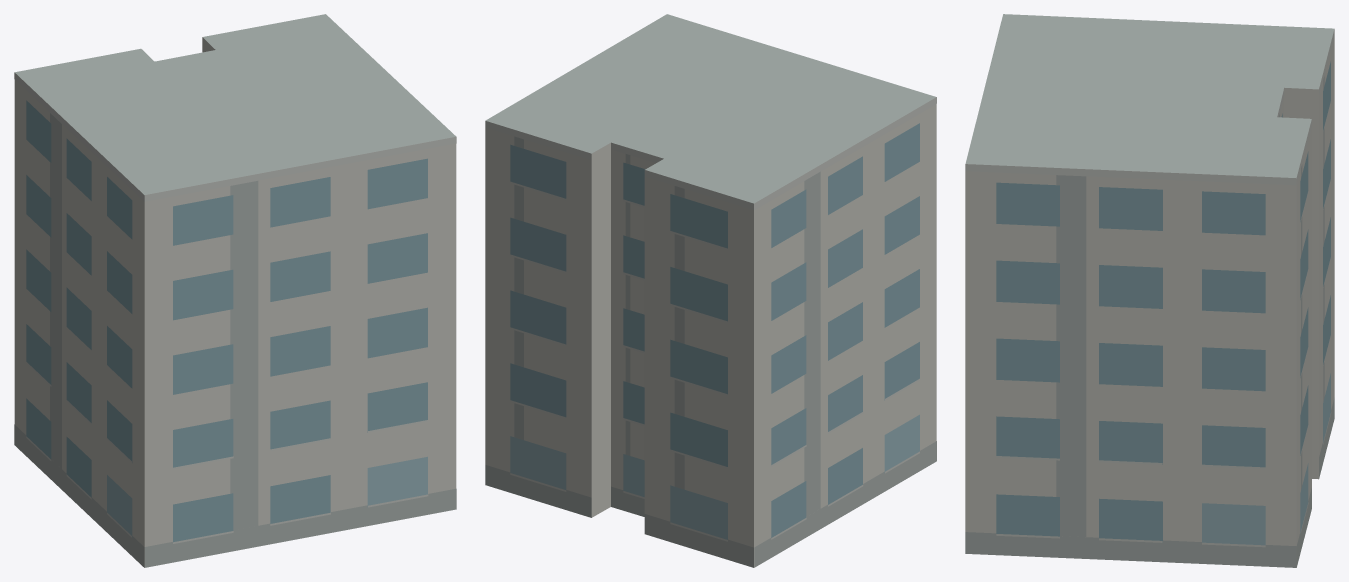
The model's file is survey-upis-32806416.glb.
3 renders of one model, left to right at view 1: azimuth 30°, elevation 25°; view 2: azimuth 150°, elevation 25°; view 3: azimuth 270°, elevation 25°, orthographic. The views are drawn at different scales.
Parts seen in each view (by area): view 1: survey-upis-32806416.tmp; view 2: survey-upis-32806416.tmp; view 3: survey-upis-32806416.tmp.
Part boxes in pixels (x1=…): survey-upis-32806416.tmp: x1=14, y1=14, x2=456, y2=567; survey-upis-32806416.tmp: x1=485, y1=14, x2=936, y2=567; survey-upis-32806416.tmp: x1=965, y1=14, x2=1334, y2=567.
Size of the model in its own units: 11.93 by 13.2 by 11.34.
